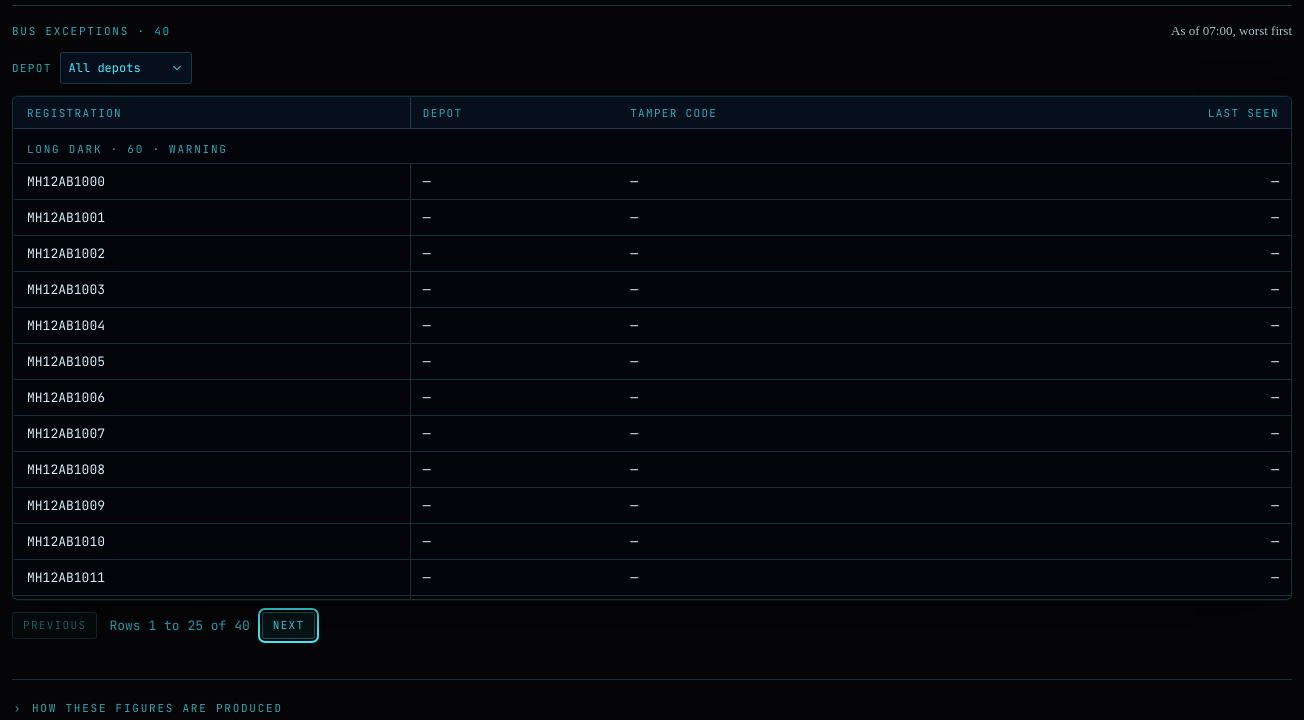
it: exceptions page filters and paging › moves focus to the status line when Next becomes disabled on the last page
(page scrolled)
Step 1. Click the button "Next" → (289, 625), box [262,612,316,638]
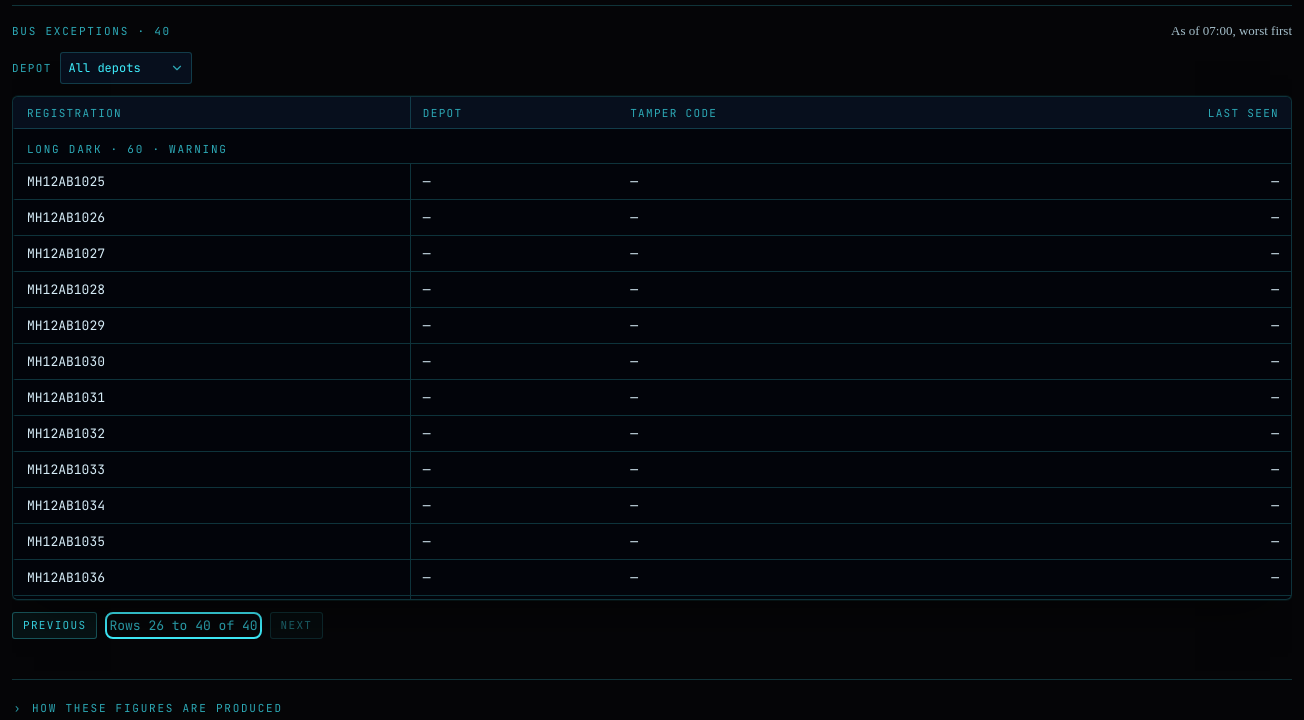
Now the button "Next" is disabled, box [270,612,323,638]
